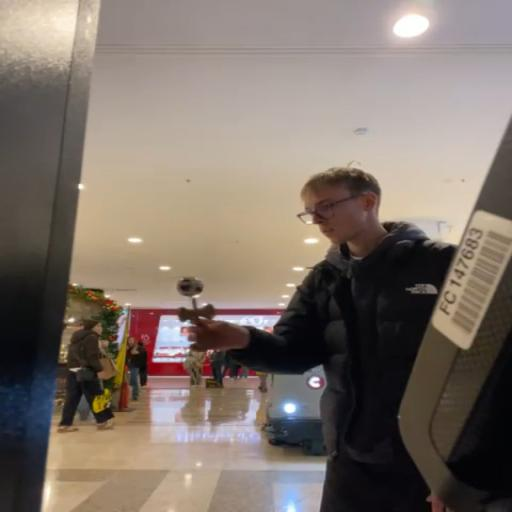kendama_ball: (177, 277, 205, 297)
